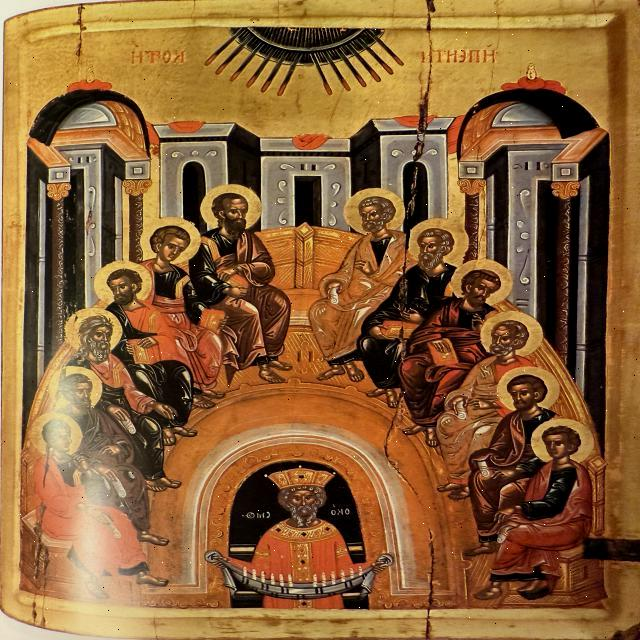aura: (200, 185, 266, 235), (407, 217, 469, 269), (450, 260, 514, 310), (63, 307, 124, 359), (141, 218, 203, 269), (93, 260, 157, 309), (478, 312, 544, 359), (531, 419, 595, 465), (344, 187, 408, 233), (498, 369, 562, 413), (27, 414, 85, 459), (48, 365, 102, 411)
book: (127, 335, 165, 365), (194, 307, 234, 333), (375, 322, 420, 344), (427, 337, 458, 367), (221, 272, 249, 301)
crown: (258, 465, 346, 491)
scroll: (112, 403, 147, 435), (100, 514, 128, 546), (492, 517, 520, 547), (450, 394, 473, 426), (321, 281, 345, 307), (107, 469, 127, 499), (472, 454, 492, 482)
